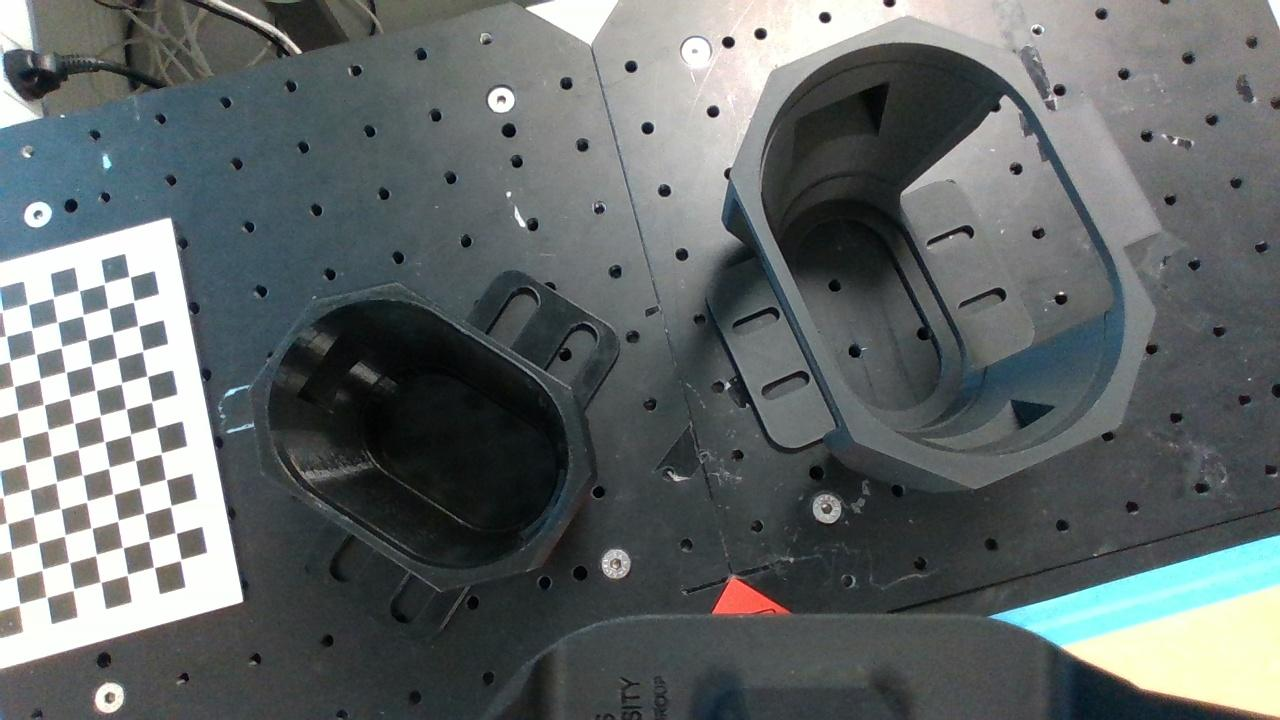big_interface: (730, 16, 1158, 491)
small_interface: (249, 282, 595, 592)
